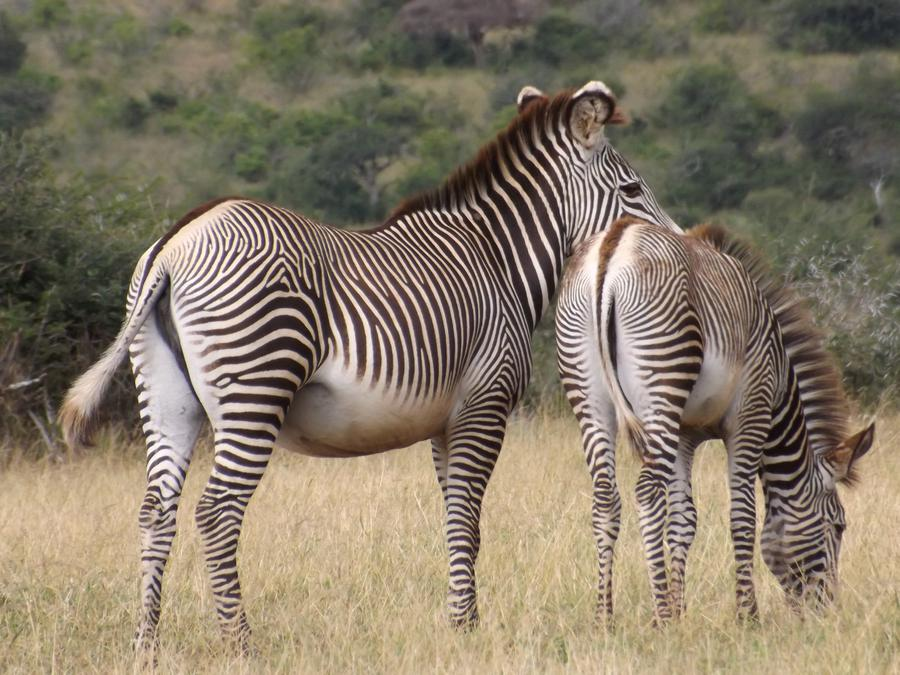zebra_grevys: (158, 206, 523, 438)
